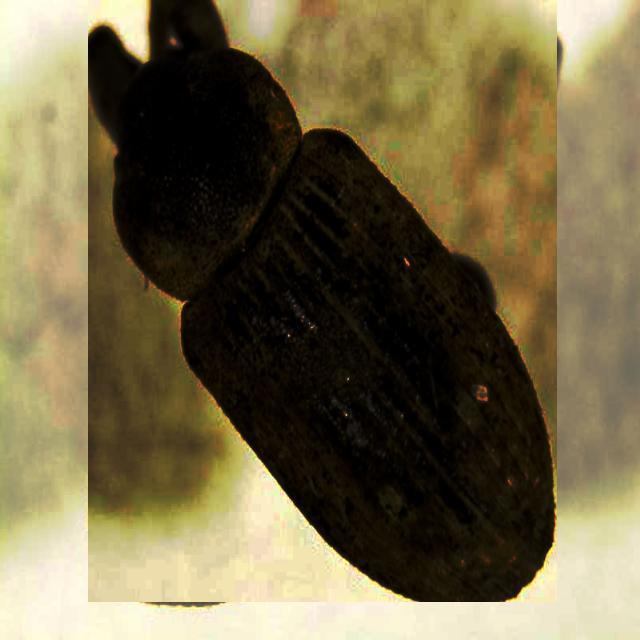rice-bug: (88, 0, 557, 602)
